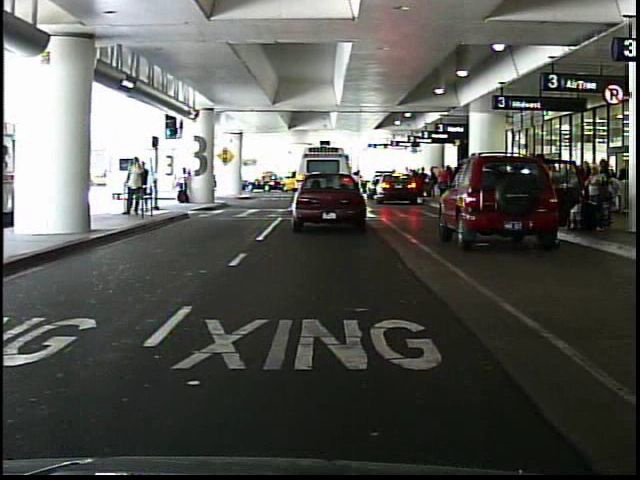person: (530, 152, 562, 234), (122, 153, 145, 221), (139, 160, 155, 219), (174, 167, 194, 208), (436, 163, 453, 201)
